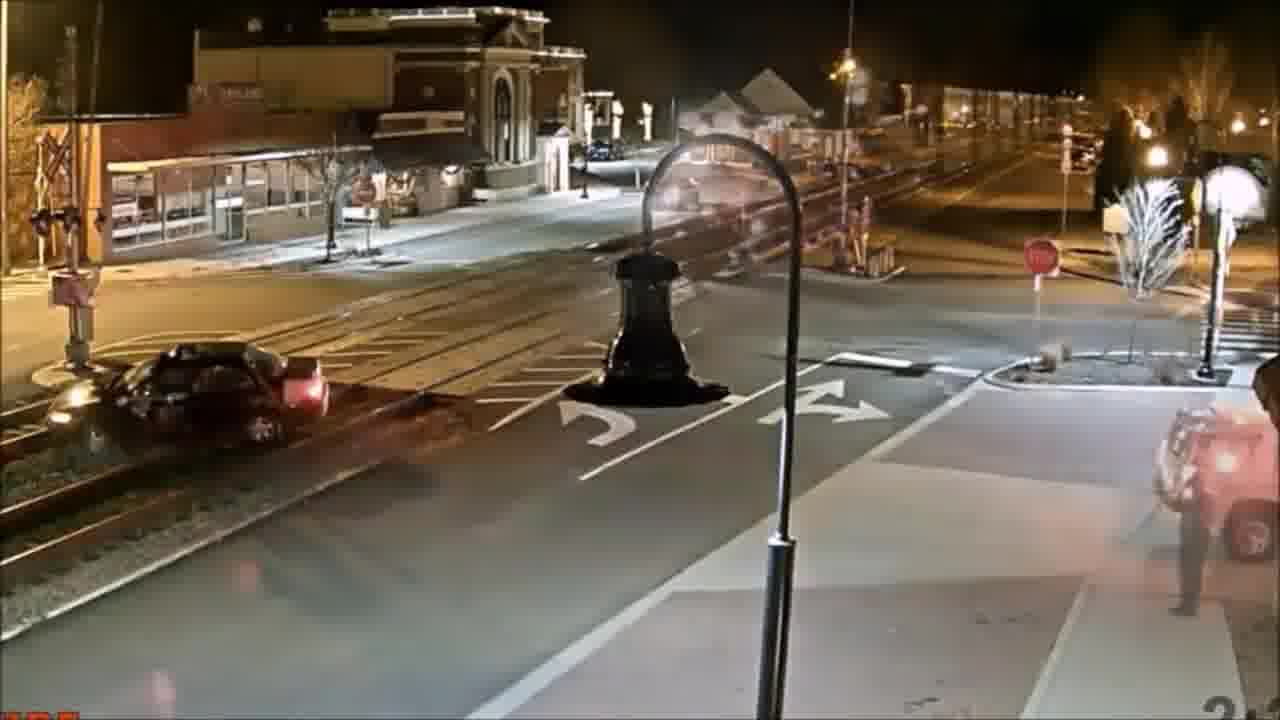crossing railway track: (42, 330, 326, 475)
